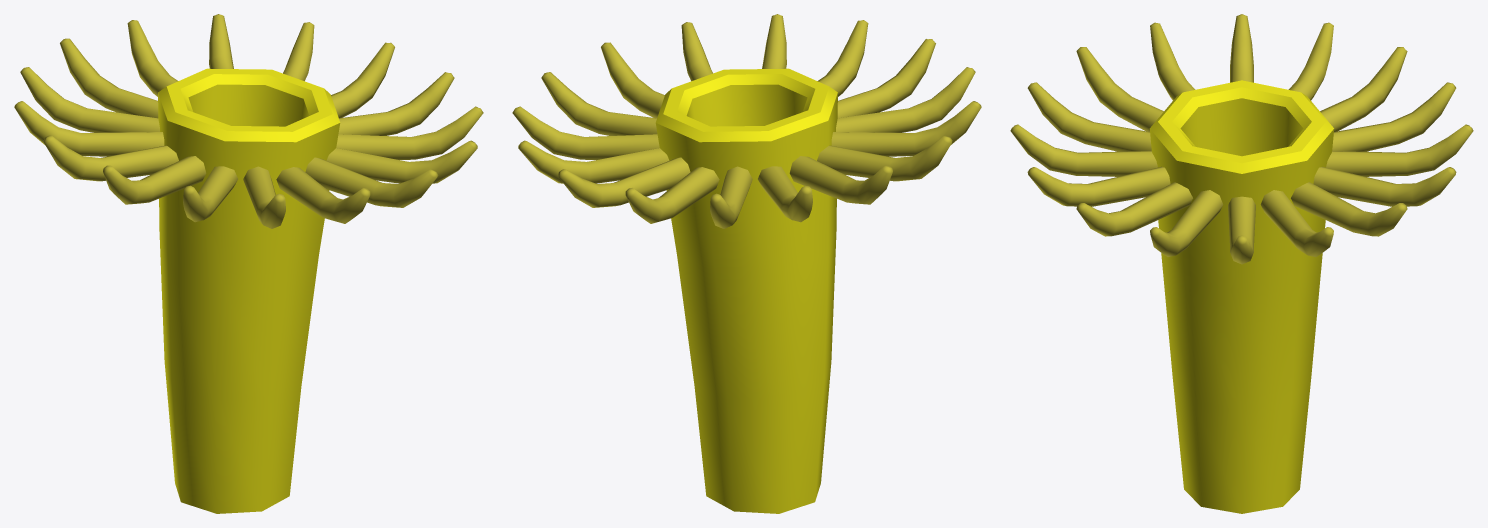
Rendered from Sea_plant_4_2.002.fbx.
3 views of the same model, side by side, from view 1: azimuth 30°, elevation 25°; view 2: azimuth 150°, elevation 25°; view 3: azimuth 270°, elevation 25° (orthographic). The views are drawn at different scales.
Visible parts, largest first — view 1: Sea_plant_4_2.002; view 2: Sea_plant_4_2.002; view 3: Sea_plant_4_2.002.
Boxes of the visible parts, x1=… form: Sea_plant_4_2.002: x1=14, y1=14, x2=483, y2=513; Sea_plant_4_2.002: x1=512, y1=14, x2=981, y2=513; Sea_plant_4_2.002: x1=1010, y1=14, x2=1473, y2=513.
Bounding box in the file's own units: 0.81 × 0.7511 × 0.8126.
